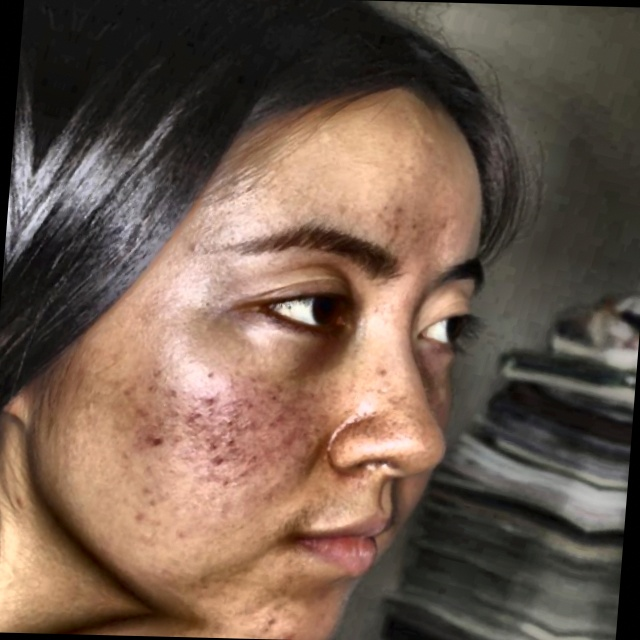comedone: (258, 608, 288, 640)
